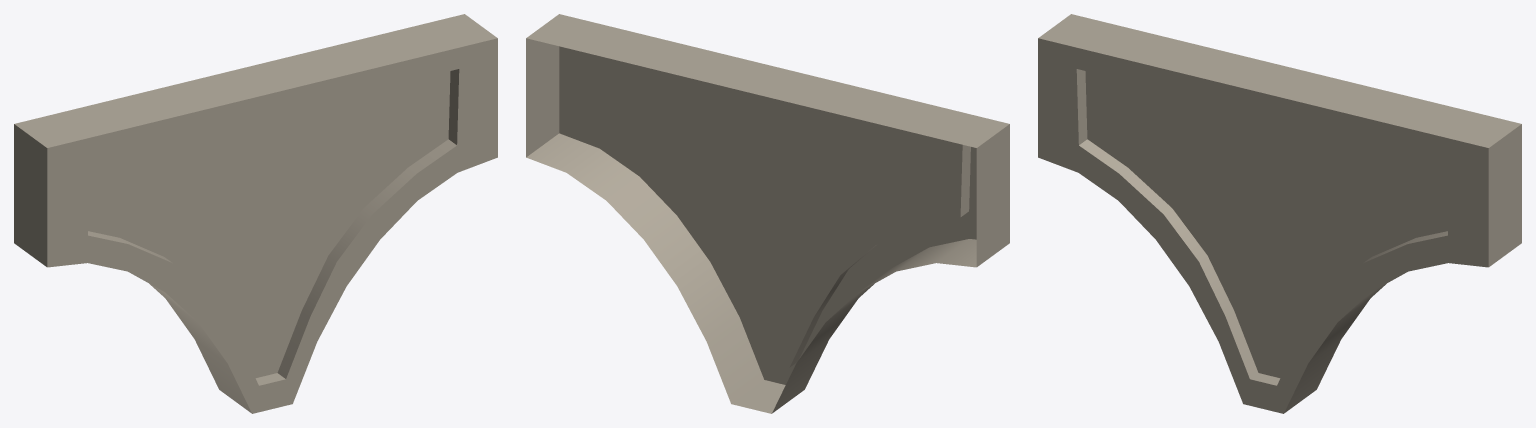
The model's file is BC_InsideFrameDecol_A.fbx.
3 views of the same model, side by side, from view 1: azimuth 30°, elevation 25°; view 2: azimuth 150°, elevation 25°; view 3: azimuth 330°, elevation 25° (orthographic).
Visible parts, largest first — view 1: BC_InsideFrameDecol_A; view 2: BC_InsideFrameDecol_A; view 3: BC_InsideFrameDecol_A.
Boxes of the visible parts, x1=… form: BC_InsideFrameDecol_A: x1=14, y1=14, x2=497, y2=413; BC_InsideFrameDecol_A: x1=526, y1=14, x2=1009, y2=413; BC_InsideFrameDecol_A: x1=1038, y1=14, x2=1521, y2=413.
Size of the model in its own units: 203 by 136 by 25.78.
